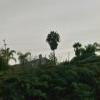Tree: (40, 20, 99, 96)
